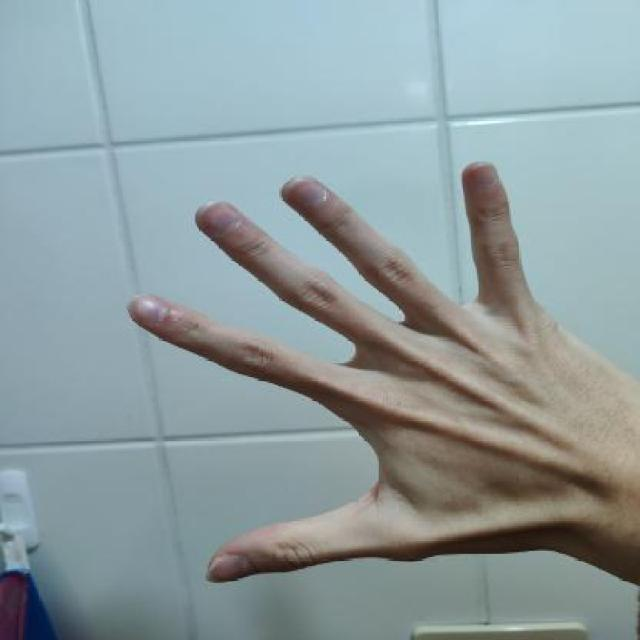bare_hand: (122, 140, 640, 605)
